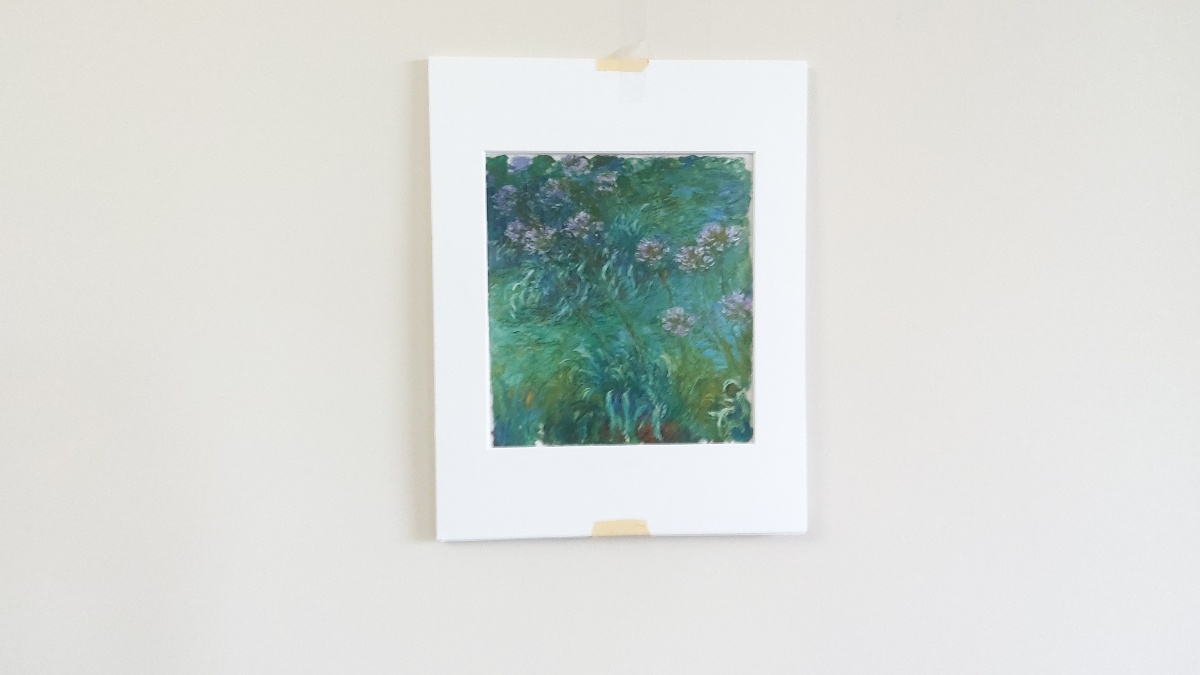painting: (467, 143, 763, 449)
